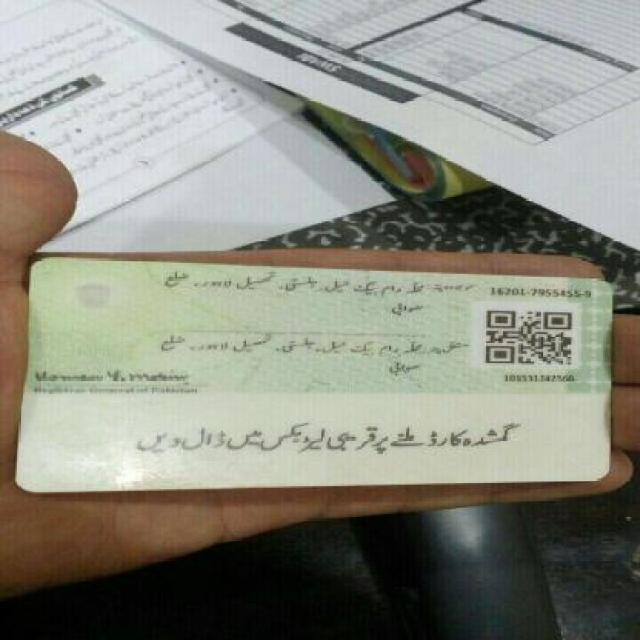Back: (8, 248, 628, 490)
